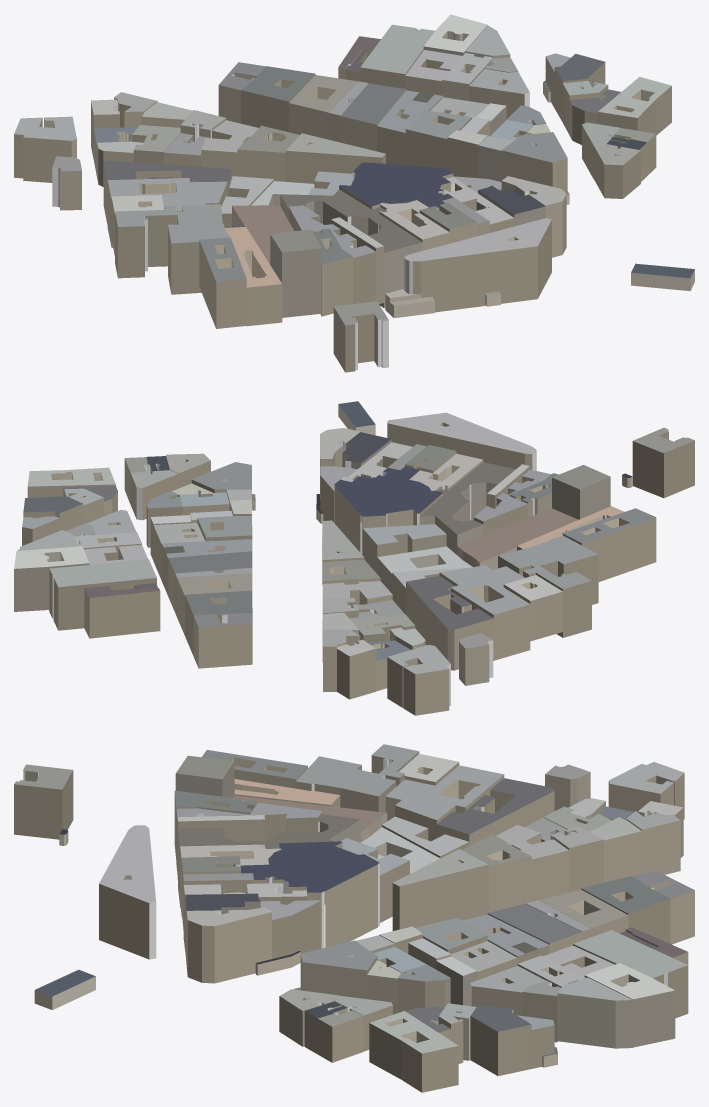
3 renders of one model, top to bottom at view 1: azimuth 30°, elevation 25°; view 2: azimuth 150°, elevation 25°; view 3: azimuth 270°, elevation 25°, orthographic. The views are drawn at different scales.
Parts seen in each view (by area): view 1: tuile; view 2: tuile; view 3: tuile.
Part boxes in pixels (left/top/right/bottom): tuile: left=14, top=14, right=694, bottom=372; tuile: left=14, top=401, right=694, bottom=715; tuile: left=14, top=744, right=694, bottom=1092.
Bounding box in the file's own units: 282 × 36.8 × 272.
